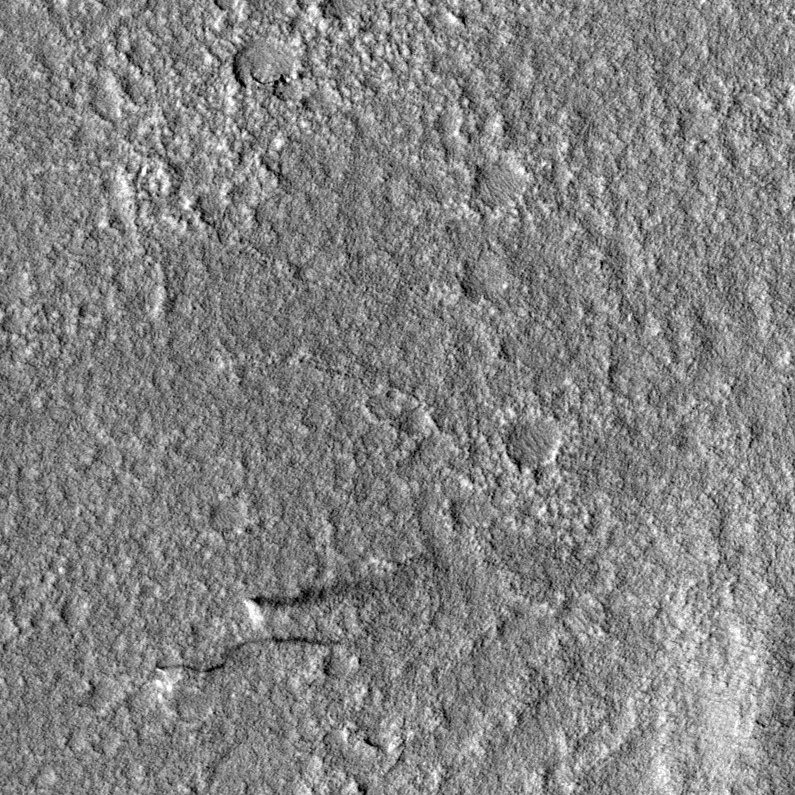dust_devil: (150, 635, 341, 704), (242, 573, 376, 630)
